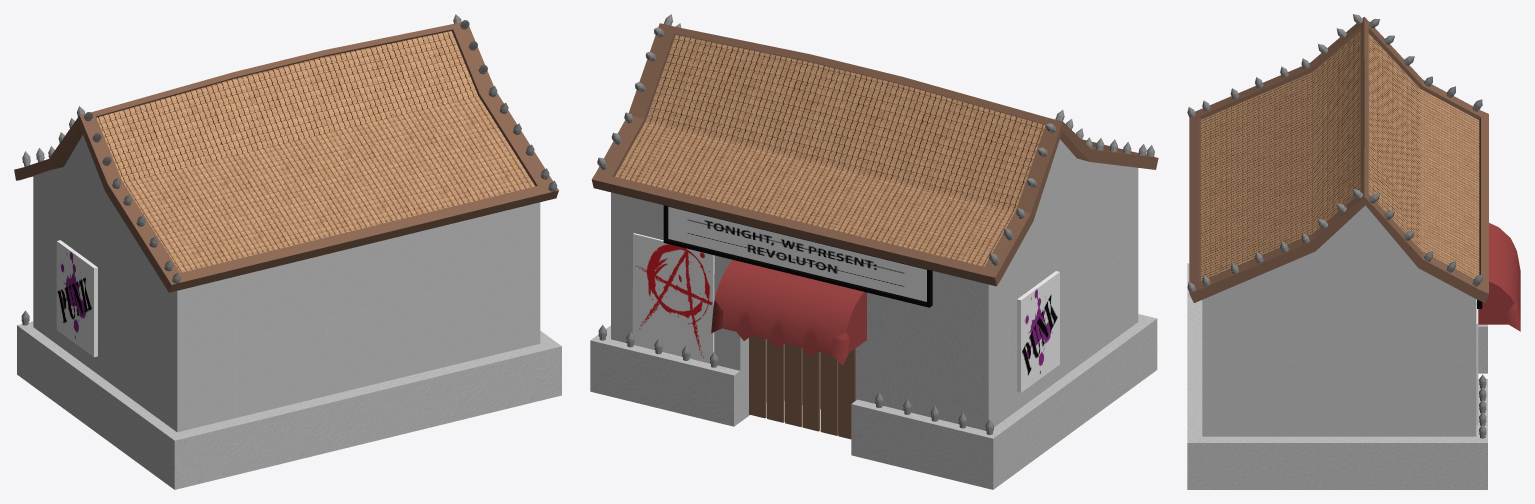
Rendered from barracks3.0.fbx.
The picture shows the model from 3 angles, left to right: view 1: azimuth 30°, elevation 25°; view 2: azimuth 150°, elevation 25°; view 3: azimuth 270°, elevation 25°; orthographic projection. The views are drawn at different scales.
Parts seen in each view (by area): view 1: polySurface20; view 2: polySurface20, polySurface14; view 3: polySurface20.
Boxes of the visible parts, x1=… form: polySurface20: x1=14, y1=14, x2=561, y2=489; polySurface20: x1=590, y1=14, x2=1158, y2=489; polySurface14: x1=749, y1=335, x2=855, y2=439; polySurface20: x1=1187, y1=14, x2=1520, y2=489.
Bounding box in the file's own units: 1462 × 1123 × 1139.
Materials: 9 (5 with a texture image).
